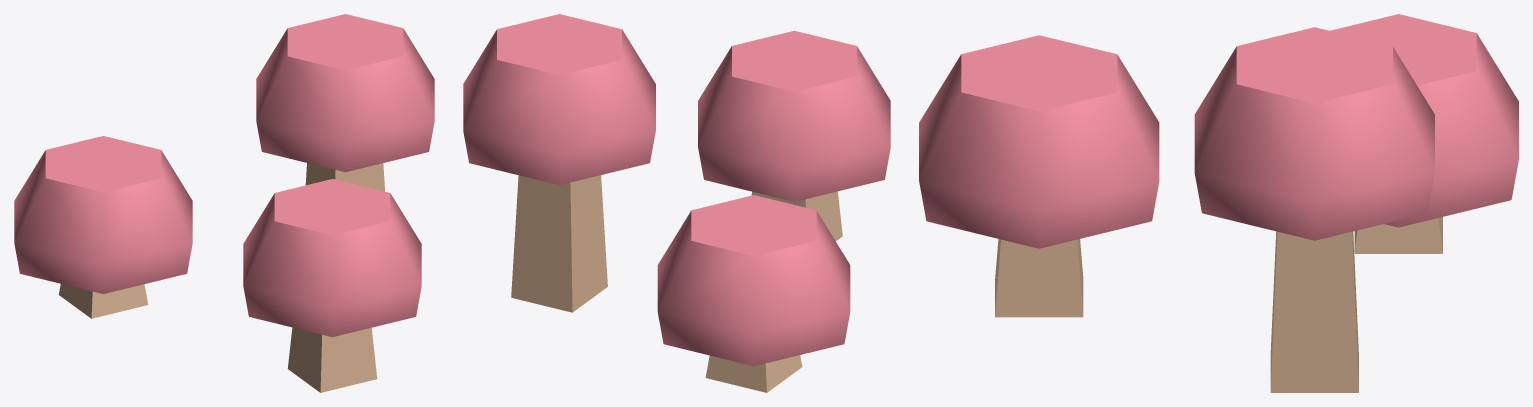
3 renders of one model, left to right at view 1: azimuth 30°, elevation 25°; view 2: azimuth 150°, elevation 25°; view 3: azimuth 270°, elevation 25°, orthographic. The views are drawn at different scales.
Parts seen in each view (by area): view 1: mushrooms; view 2: mushrooms; view 3: mushrooms.
Part boxes in pixels (x1,y1,x2,y2): mushrooms: (14,14,434,392); mushrooms: (463,14,890,392); mushrooms: (919,14,1518,392).
Bounding box in the file's own units: 0.5242 × 0.295 × 0.5188.
